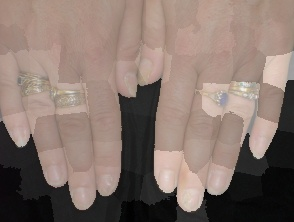Nail_psoriasis: (124, 49, 167, 91), (0, 111, 41, 154), (62, 176, 104, 216), (170, 178, 210, 219), (37, 151, 76, 193), (87, 162, 126, 202), (205, 161, 237, 202), (242, 129, 277, 164), (153, 161, 186, 198), (117, 67, 140, 101)
